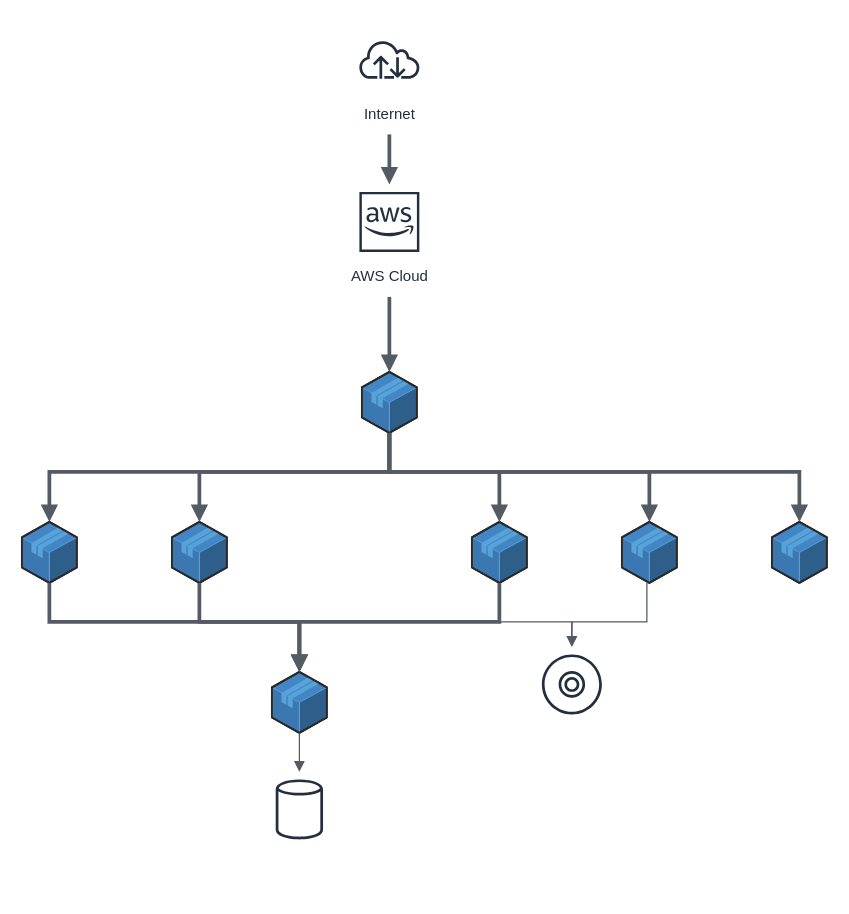
Image size: 849x914. Some labels were removed from this diagram. Each missing label, with the centre of its shape:
Disk: the point at 571,684
Generic database: the point at 299,809
